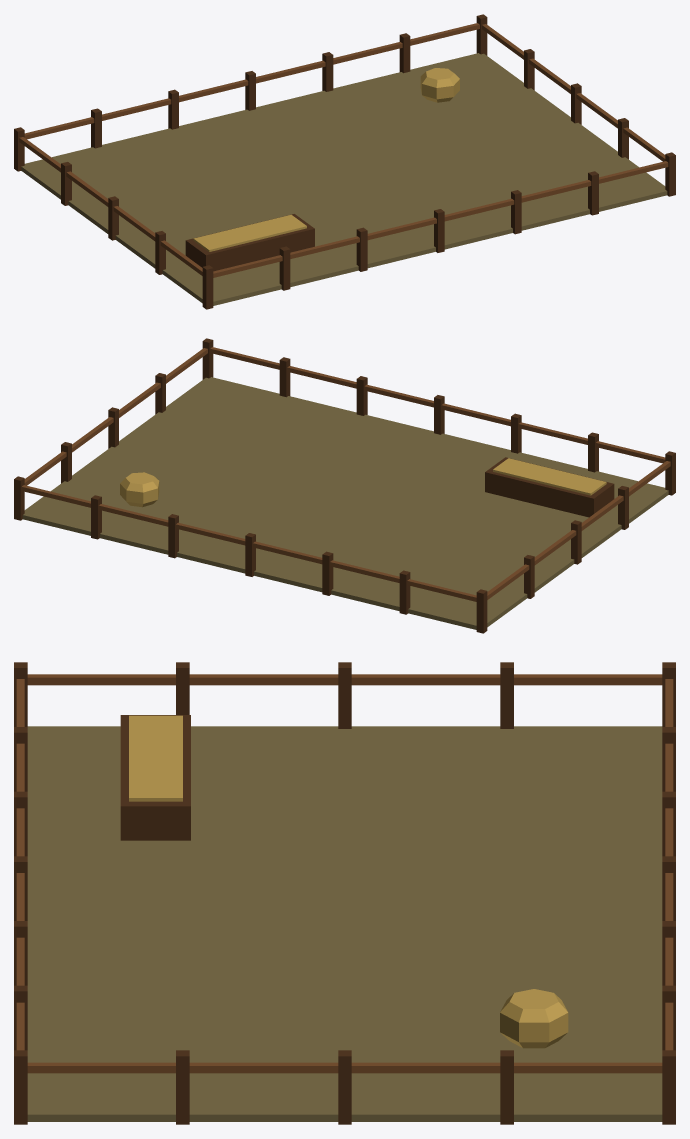
Rendered from pen_broken.glb.
3 renders of one model, top to bottom at view 1: azimuth 30°, elevation 25°; view 2: azimuth 150°, elevation 25°; view 3: azimuth 270°, elevation 25°, orthographic. The views are drawn at different scales.
Visible parts, largest first — view 1: pen_piece3, pen_piece1, pen_piece6, pen_piece4, pen_piece5, pen_piece12, pen_piece7, pen_piece2, pen_piece11, pen_piece9, pen_piece10, pen_piece0 (+1 smaller); view 2: pen_piece3, pen_piece1, pen_piece4, pen_piece6, pen_piece5, pen_piece12, pen_piece7, pen_piece2, pen_piece11, pen_piece0, pen_piece10, pen_piece9 (+1 smaller); view 3: pen_piece3, pen_piece6, pen_piece5, pen_piece1, pen_piece12, pen_piece4, pen_piece7, pen_piece2, pen_piece11, pen_piece9, pen_piece10, pen_piece0 (+1 smaller).
Boxes of the visible parts, x1,y1,x2,y2 form: pen_piece3: (406, 134, 675, 253); pen_piece1: (339, 25, 489, 191); pen_piece6: (423, 14, 603, 157); pen_piece4: (14, 74, 266, 187); pen_piece5: (14, 136, 210, 273); pen_piece12: (220, 155, 325, 303); pen_piece7: (395, 110, 635, 198); pen_piece2: (145, 147, 306, 274); pen_piece11: (239, 59, 333, 168); pen_piece9: (300, 185, 403, 281); pen_piece10: (317, 191, 440, 272); pen_piece0: (163, 215, 242, 309); pen_piece3: (168, 338, 473, 459); pen_piece1: (14, 476, 376, 547); pen_piece4: (231, 539, 487, 628); pen_piece6: (14, 397, 263, 508); pen_piece5: (433, 504, 627, 633); pen_piece12: (310, 432, 659, 520); pen_piece7: (137, 373, 362, 483); pen_piece2: (335, 486, 637, 555); pen_piece11: (166, 519, 346, 569); pen_piece0: (473, 451, 675, 523); pen_piece10: (325, 411, 562, 472); pen_piece9: (332, 432, 580, 502); pen_piece3: (14, 842, 214, 1124); pen_piece6: (247, 986, 675, 1124); pen_piece5: (193, 662, 675, 826); pen_piece1: (268, 905, 675, 1124); pen_piece12: (14, 685, 439, 927); pen_piece4: (423, 662, 675, 931); pen_piece7: (146, 933, 349, 1124); pen_piece2: (142, 662, 543, 903); pen_piece11: (408, 856, 675, 988); pen_piece9: (16, 752, 309, 950); pen_piece10: (14, 767, 227, 968); pen_piece0: (14, 662, 301, 823).
Bounding box in the file's own units: 3.45 × 0.28 × 2.45.
